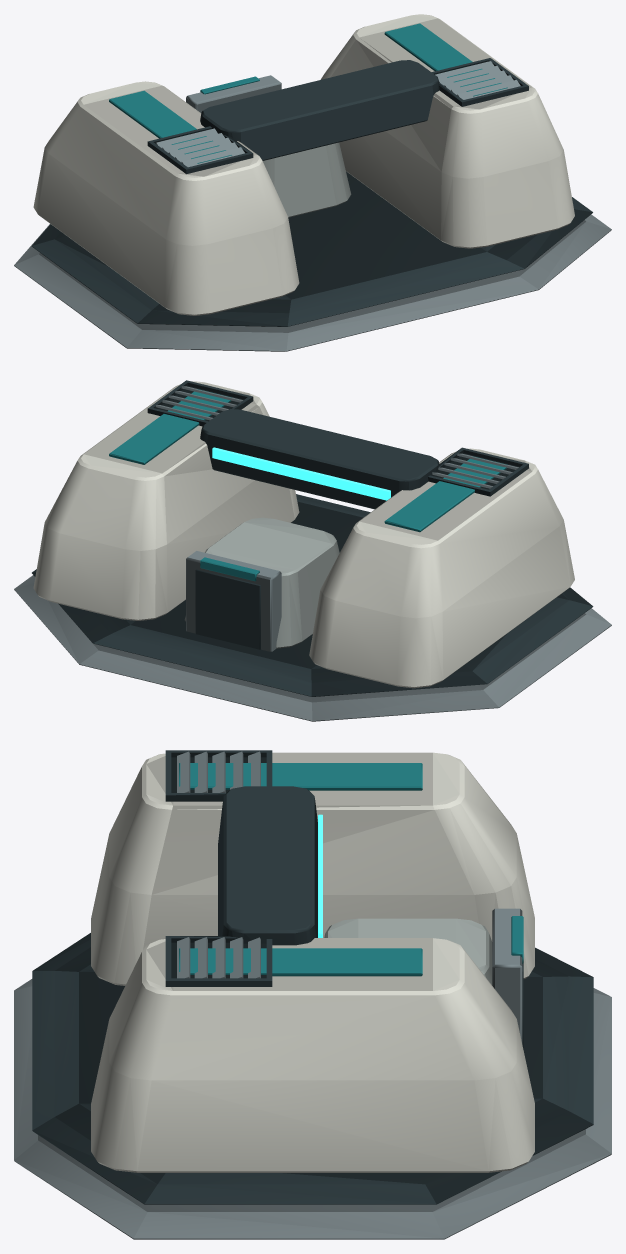
File: OperatorHub.glb
The picture shows the model from 3 angles, top to bottom: view 1: azimuth 30°, elevation 25°; view 2: azimuth 150°, elevation 25°; view 3: azimuth 270°, elevation 25°; orthographic projection. The views are drawn at different scales.
Parts seen in each view (by area): view 1: export_OperatorHub_Foundation, export_OperatorHub_HabitatWing, export_OperatorHub_HabitatWing.001; view 2: export_OperatorHub_Foundation, export_OperatorHub_HabitatWing, export_OperatorHub_HabitatWing.001; view 3: export_OperatorHub_HabitatWing.001, export_OperatorHub_Foundation, export_OperatorHub_HabitatWing.
Part boxes in pixels (box(x1,y1,x2,y2)): export_OperatorHub_Foundation: box(14, 60, 611, 351); export_OperatorHub_HabitatWing: box(33, 81, 299, 315); export_OperatorHub_HabitatWing.001: box(320, 14, 574, 248); export_OperatorHub_Foundation: box(14, 409, 611, 721); export_OperatorHub_HabitatWing: box(309, 447, 574, 688); export_OperatorHub_HabitatWing.001: box(33, 380, 299, 620); export_OperatorHub_HabitatWing.001: box(91, 936, 534, 1172); export_OperatorHub_Foundation: box(14, 786, 611, 1239); export_OperatorHub_HabitatWing: box(91, 750, 534, 985).
Size of the model in its own units: 6.16 by 1.92 by 4.77.
